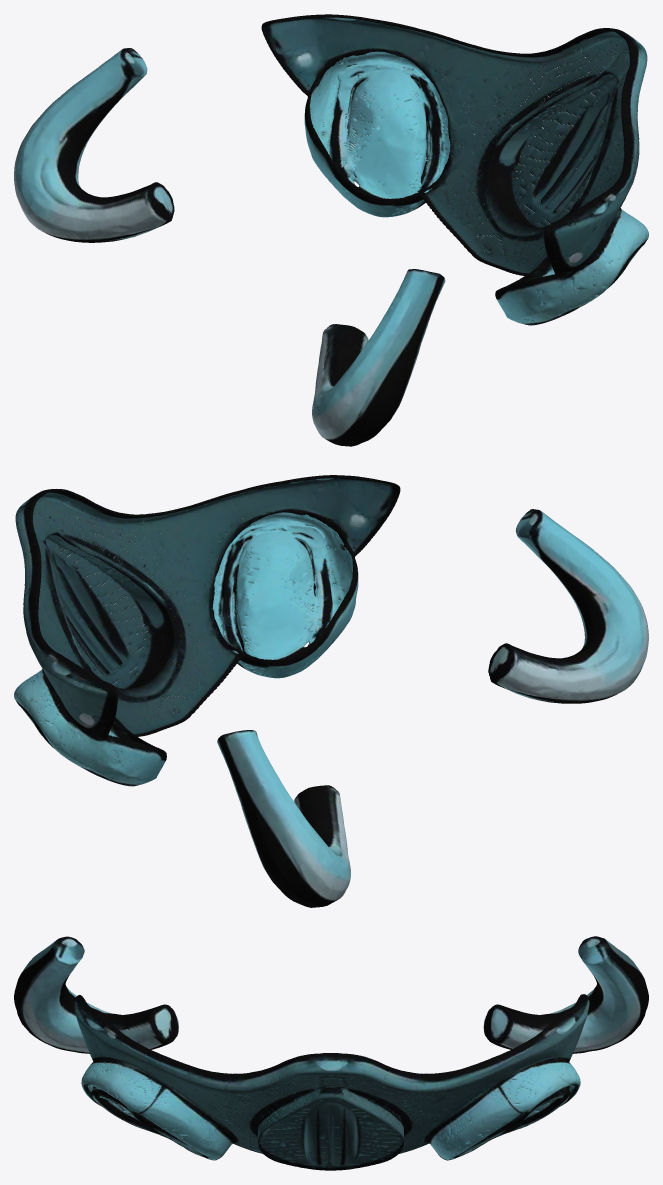
The model's file is 11_003_Mask_Ayumi-Mask.glb.
The picture shows the model from 3 angles, top to bottom: view 1: azimuth 30°, elevation 25°; view 2: azimuth 150°, elevation 25°; view 3: azimuth 270°, elevation 25°; orthographic projection. The views are drawn at different scales.
Parts seen in each view (by area): view 1: tripo_node_98bbe14a-d262-4448-9616-924662f1ad7d; view 2: tripo_node_98bbe14a-d262-4448-9616-924662f1ad7d; view 3: tripo_node_98bbe14a-d262-4448-9616-924662f1ad7d.
Part boxes in pixels (bbox=[...]): tripo_node_98bbe14a-d262-4448-9616-924662f1ad7d: bbox=[14, 14, 648, 446]; tripo_node_98bbe14a-d262-4448-9616-924662f1ad7d: bbox=[14, 475, 648, 907]; tripo_node_98bbe14a-d262-4448-9616-924662f1ad7d: bbox=[14, 936, 648, 1170].
Bounding box in the file's own units: 0.7627 × 0.3156 × 1.
Materials: 1 (1 with a texture image).
